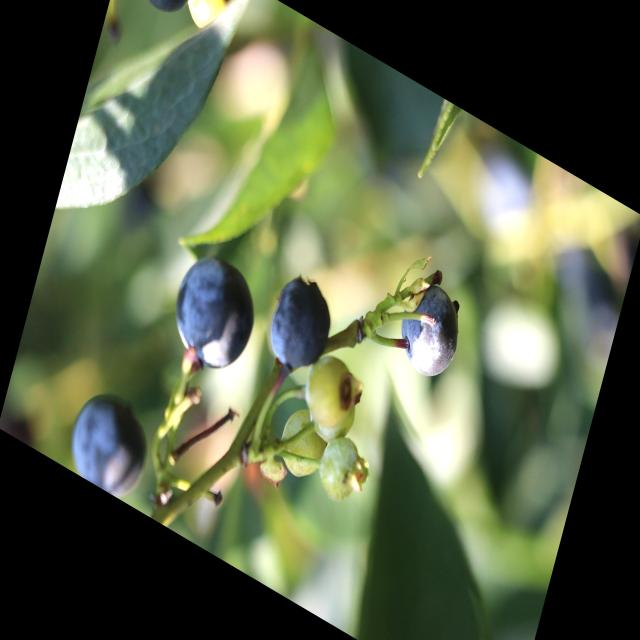blueberry: (162, 238, 272, 397), (59, 368, 162, 509), (259, 258, 347, 398), (386, 265, 473, 393), (125, 0, 209, 35)
blueberry-unripe: (298, 349, 368, 458), (313, 428, 371, 513), (274, 402, 331, 488), (180, 0, 244, 41)
